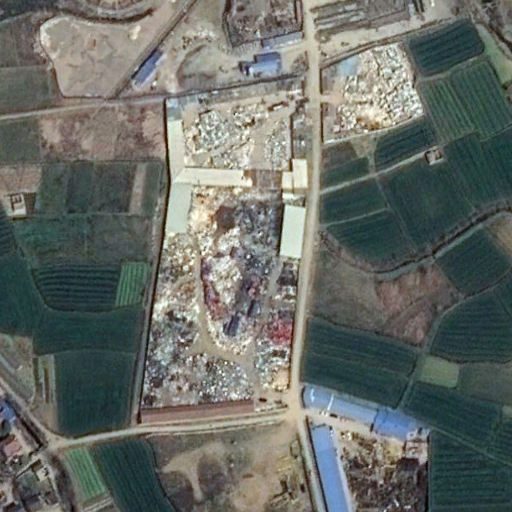msw: (140, 184, 304, 406)
